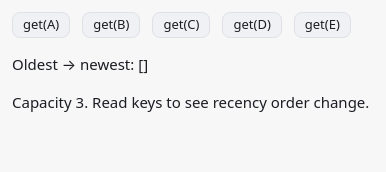
Test: LruCacheDemo › shows hits, misses and evictions
Click the button "get(A)" at [41, 25], box [12,12,70,38]
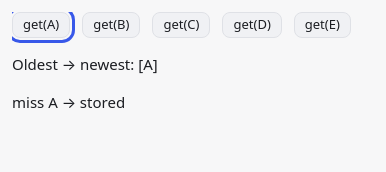
Click the button "get(B)" at [111, 25], box [82,12,140,38]
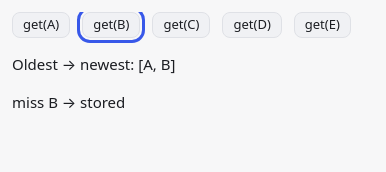
Click the button "get(C)" at [181, 25], box [152,12,210,38]
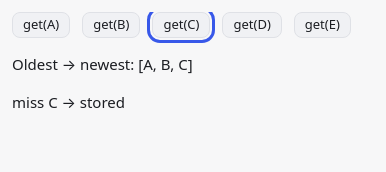
Click the button "get(A)" at [41, 25], box [12,12,70,38]
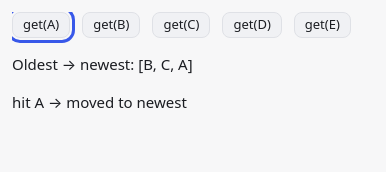
Click the button "get(D)" at [252, 25], box [222,12,282,38]
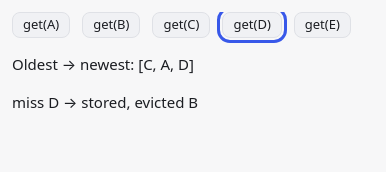
expect the text "[C, A, D]" is shown: met, box [138,54,194,74]
expect the message reads "miss D → stored, evicted B": met, box [12,92,198,112]
